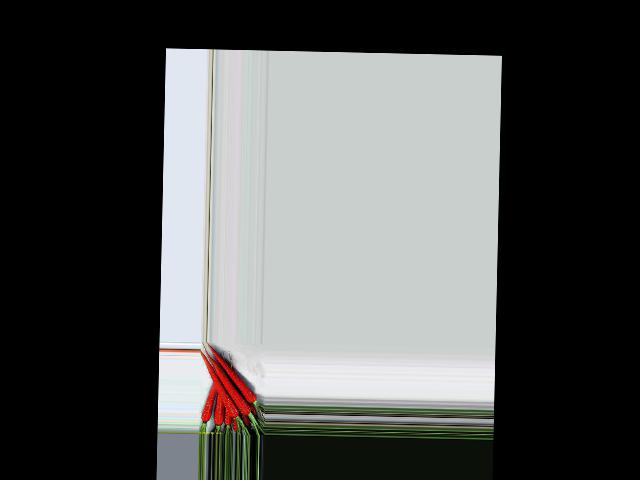carrot: (199, 382, 218, 423)
